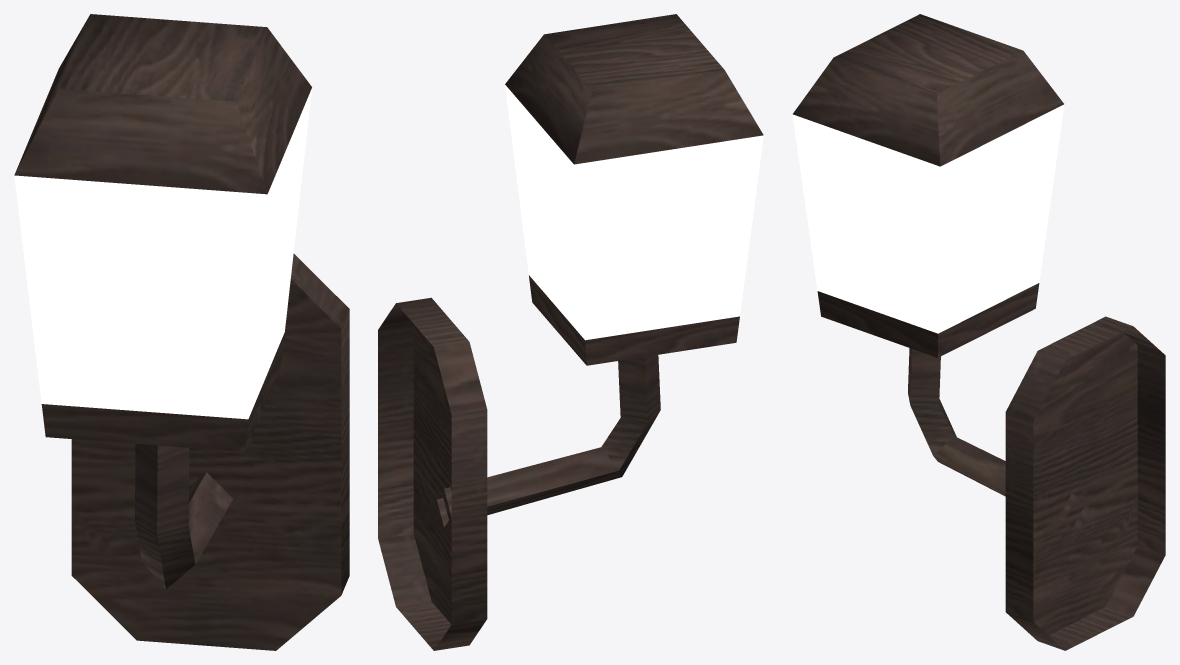
3 renders of one model, left to right at view 1: azimuth 30°, elevation 25°; view 2: azimuth 150°, elevation 25°; view 3: azimuth 270°, elevation 25°, orthographic. The views are drawn at different scales.
Parts seen in each view (by area): view 1: Lamps_04005_Metal_04004_0, Lamps_04005_Emissor001_0; view 2: Lamps_04005_Metal_04004_0, Lamps_04005_Emissor001_0; view 3: Lamps_04005_Metal_04004_0, Lamps_04005_Emissor001_0.
Boxes of the visible parts, x1=… form: Lamps_04005_Metal_04004_0: x1=14, y1=14, x2=349, y2=650; Lamps_04005_Emissor001_0: x1=14, y1=88, x2=311, y2=419; Lamps_04005_Metal_04004_0: x1=378, y1=14, x2=763, y2=650; Lamps_04005_Emissor001_0: x1=505, y1=85, x2=763, y2=340; Lamps_04005_Metal_04004_0: x1=793, y1=14, x2=1165, y2=650; Lamps_04005_Emissor001_0: x1=792, y1=104, x2=1064, y2=333.
Size of the model in its own units: 0.288 by 0.4604 by 0.2999.
Materials: 2 (1 with a texture image).
